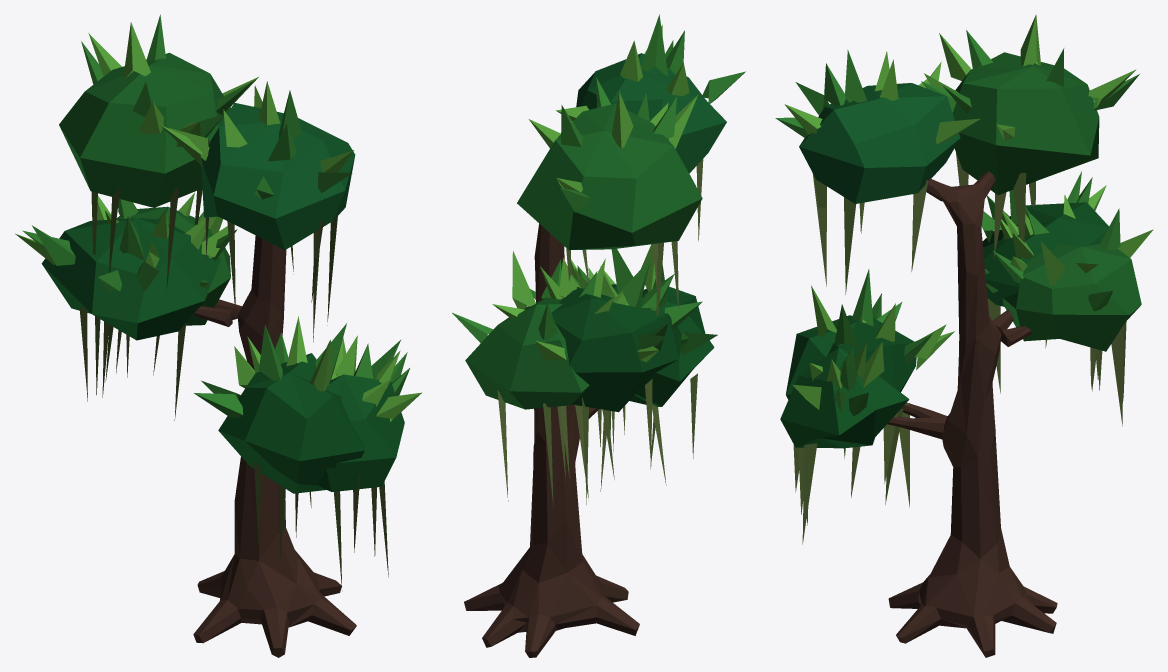
File: swamp_cypress_b.gltf
3 views of the same model, side by side, from view 1: azimuth 30°, elevation 25°; view 2: azimuth 150°, elevation 25°; view 3: azimuth 270°, elevation 25° (orthographic). The views are drawn at different scales.
Parts seen in each view (by area): view 1: swamp_cypress_b; view 2: swamp_cypress_b; view 3: swamp_cypress_b.
Boxes of the visible parts, <box> form: swamp_cypress_b: <box>15,14,421,657</box>; swamp_cypress_b: <box>452,14,745,657</box>; swamp_cypress_b: <box>775,14,1153,657</box>.
Size of the model in its own units: 1.77 by 3.79 by 2.32.
